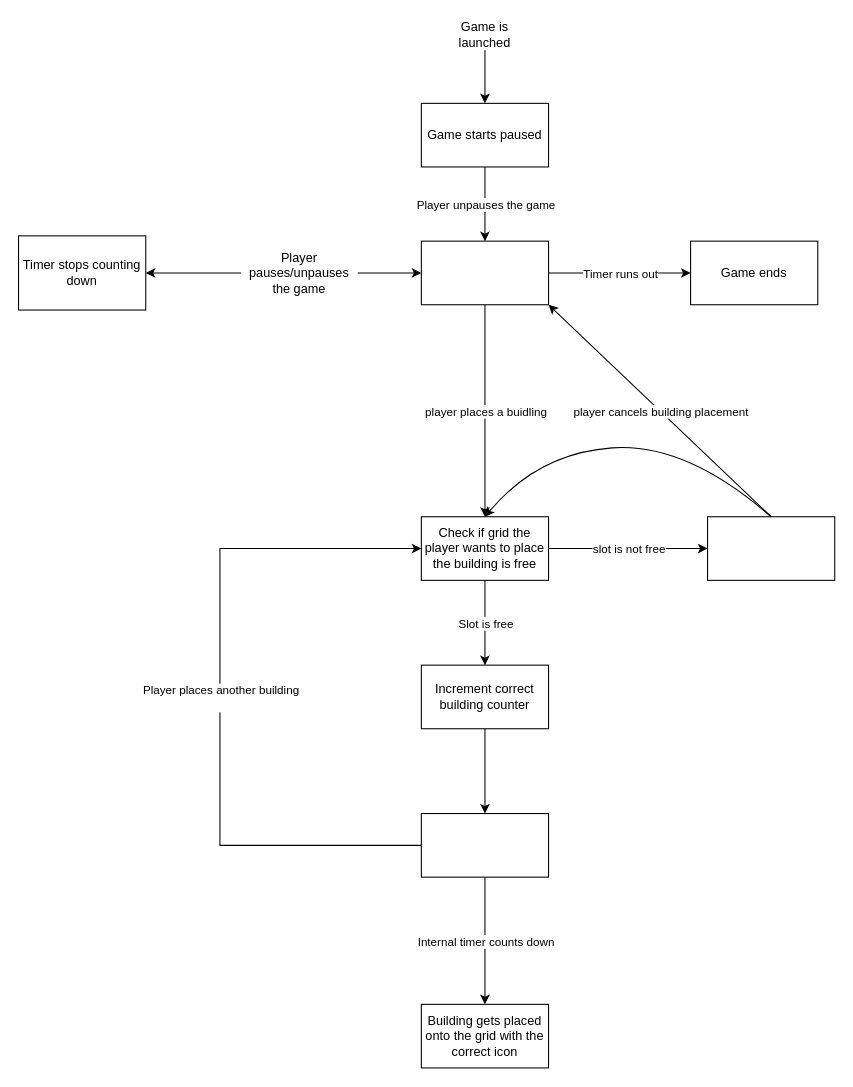
Image size: 853x1087. Some labels were removed from this diagram. The centre of each missing label's shape, as x and y in pixels:
"Place a constructing icon on the grid" belongs at point 484,844.
"Player moves the buidling to another slot" belongs at point 770,548.
"Timer starts/continues counting down" belongs at point 484,272.
